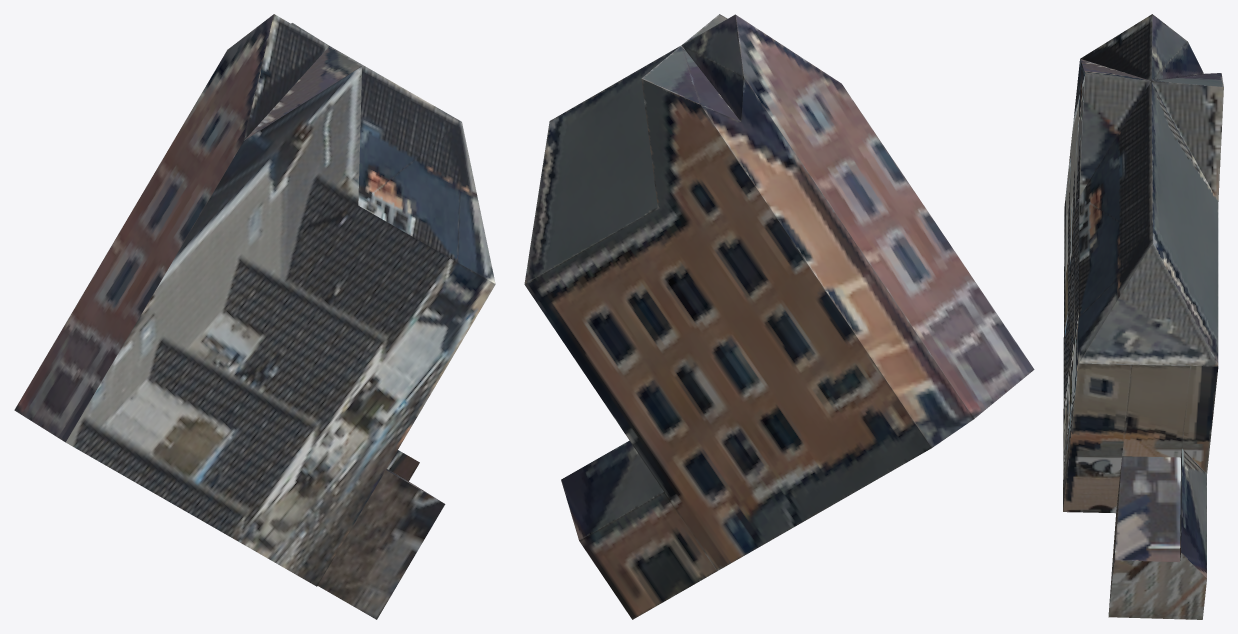
The picture shows the model from 3 angles, left to right: view 1: azimuth 30°, elevation 25°; view 2: azimuth 150°, elevation 25°; view 3: azimuth 270°, elevation 25°; orthographic projection. The views are drawn at different scales.
Parts seen in each view (by area): view 1: BAG_0599100000671719 (×3); view 2: BAG_0599100000671719 (×4); view 3: BAG_0599100000671719 (×4).
Part boxes in pixels (<box>): BAG_0599100000671719 (×3): <box>14,14,495,619</box>; BAG_0599100000671719 (×4): <box>524,14,1034,619</box>; BAG_0599100000671719 (×4): <box>1063,14,1223,619</box>.
Size of the model in its own units: 19.64 by 25.89 by 6.62.
6 materials, 6 textured.
